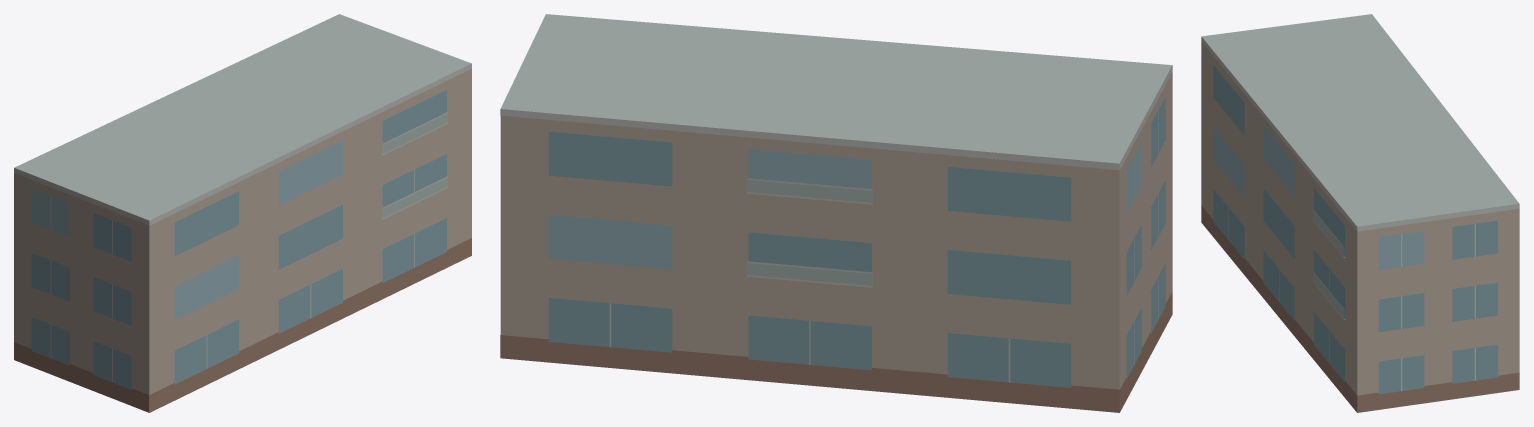
Rendered from survey-upis-32471368.glb.
3 renders of one model, left to right at view 1: azimuth 30°, elevation 25°; view 2: azimuth 150°, elevation 25°; view 3: azimuth 270°, elevation 25°, orthographic. The views are drawn at different scales.
Visible parts, largest first — view 1: survey-upis-32471368.tmp; view 2: survey-upis-32471368.tmp; view 3: survey-upis-32471368.tmp.
Boxes of the visible parts, box(x1,y1,x2,y2) form: survey-upis-32471368.tmp: box(14, 14, 471, 412); survey-upis-32471368.tmp: box(500, 14, 1172, 412); survey-upis-32471368.tmp: box(1201, 14, 1519, 412).
Bounding box in the file's own units: 22.43 × 9.15 × 14.18.
